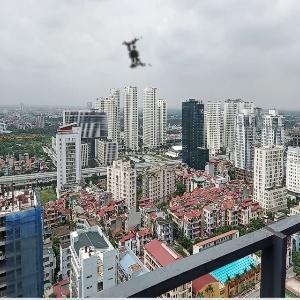drone: (83, 7, 187, 111)
